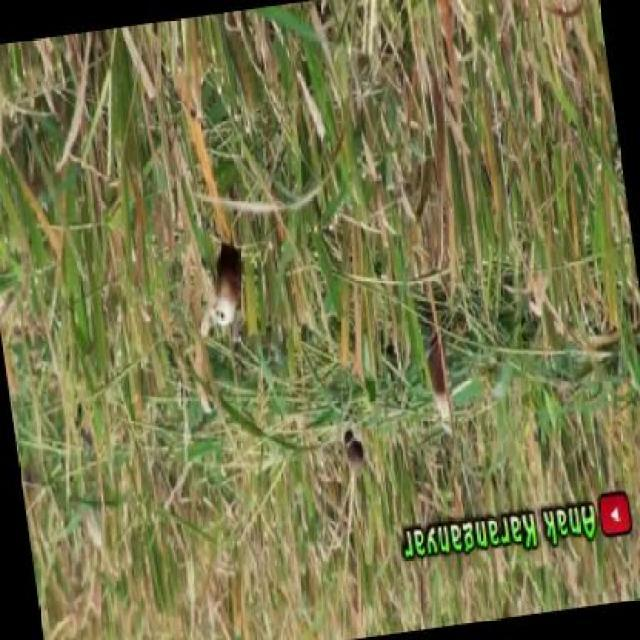Bird: (200, 238, 246, 341), (427, 326, 464, 438), (341, 427, 362, 468)
